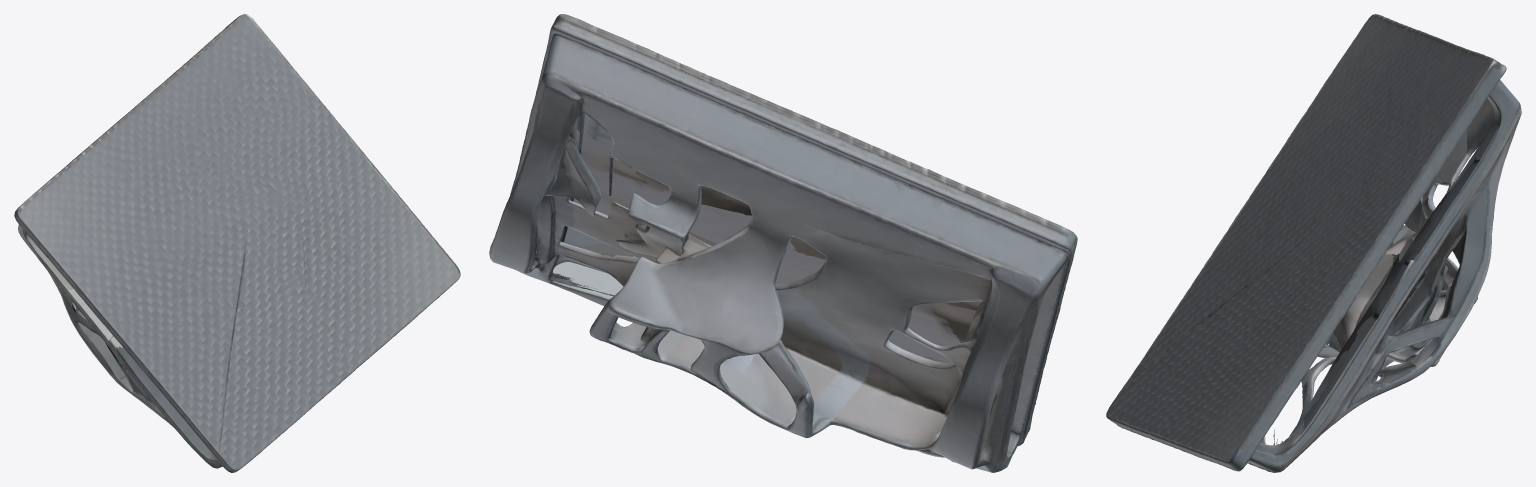
Rendered from technology-13.glb.
3 renders of one model, left to right at view 1: azimuth 30°, elevation 25°; view 2: azimuth 150°, elevation 25°; view 3: azimuth 270°, elevation 25°, orthographic. The views are drawn at different scales.
Size of the model in its own units: 1.86 by 1.49 by 1.19.
Materials: 1 (1 with a texture image).
